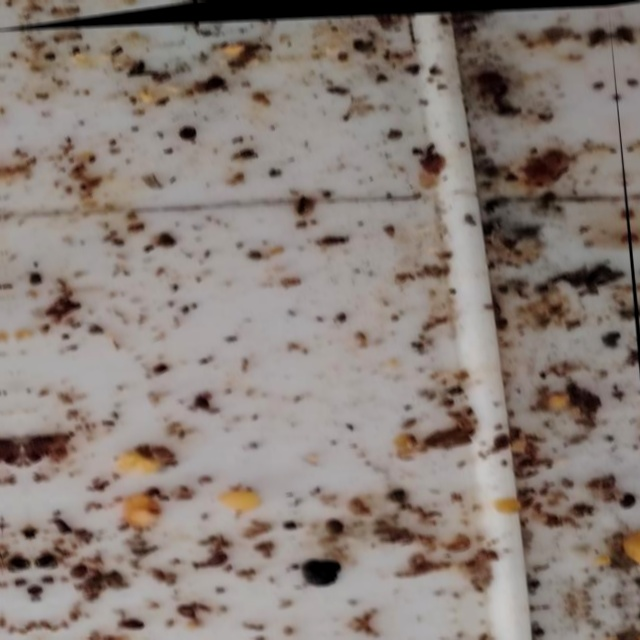varroa: (199, 547, 231, 570), (113, 615, 143, 633), (172, 601, 199, 621), (322, 513, 346, 535), (202, 71, 227, 92), (172, 122, 196, 143), (31, 552, 57, 571), (594, 322, 623, 339), (64, 562, 88, 582), (33, 583, 42, 597)
